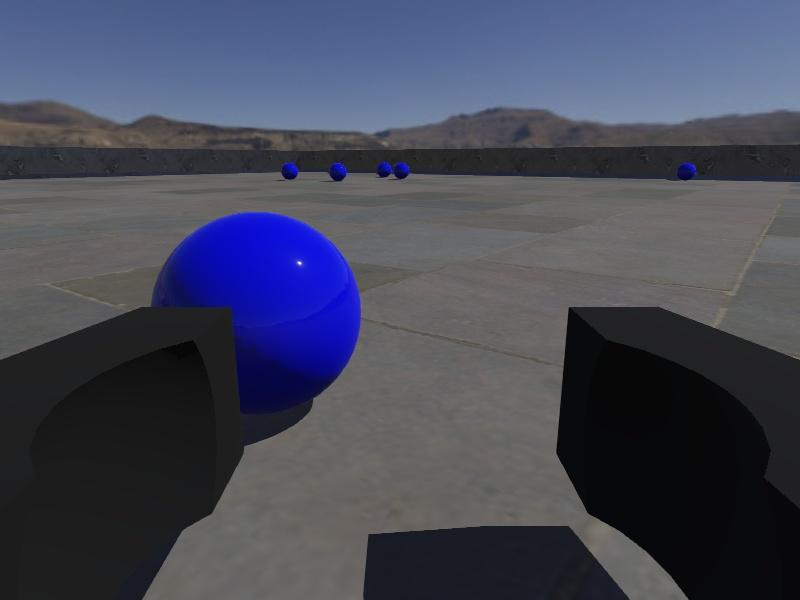blue ball: (677, 162, 697, 182), (281, 162, 299, 182), (392, 161, 410, 181), (328, 161, 347, 179), (375, 159, 393, 178)
